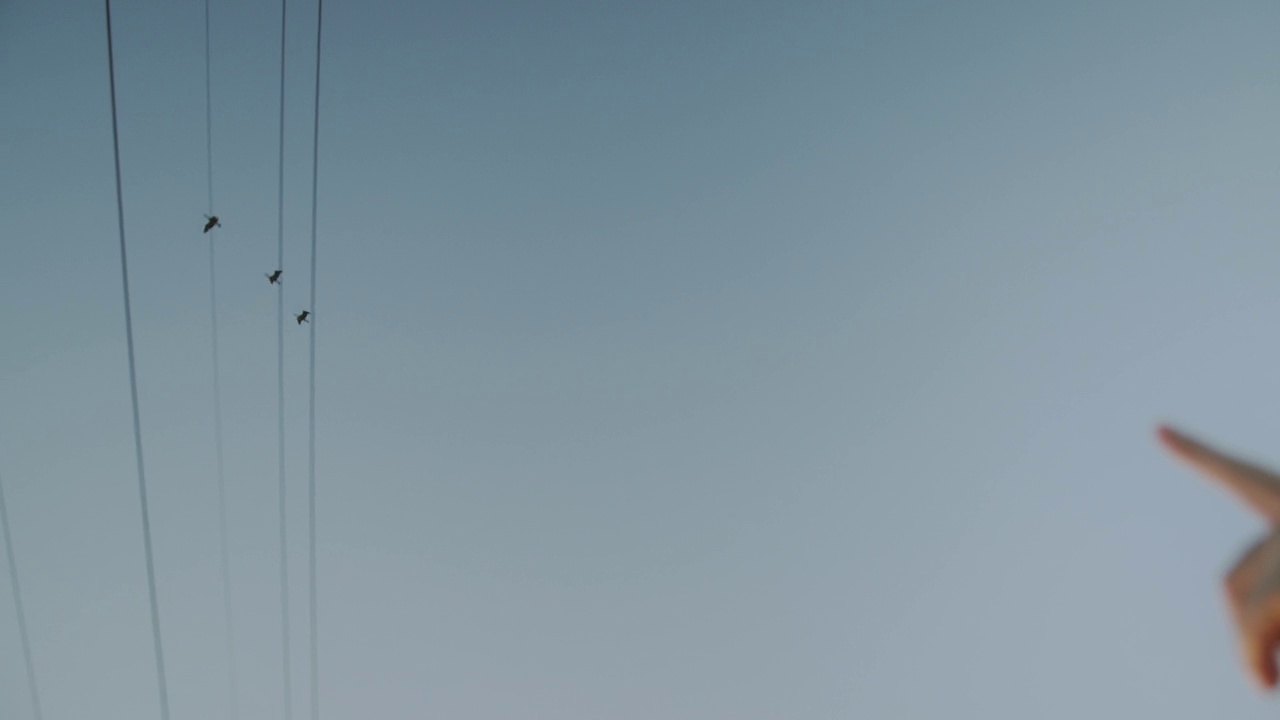bird: (202, 211, 222, 234), (291, 310, 312, 326), (265, 269, 282, 284)
